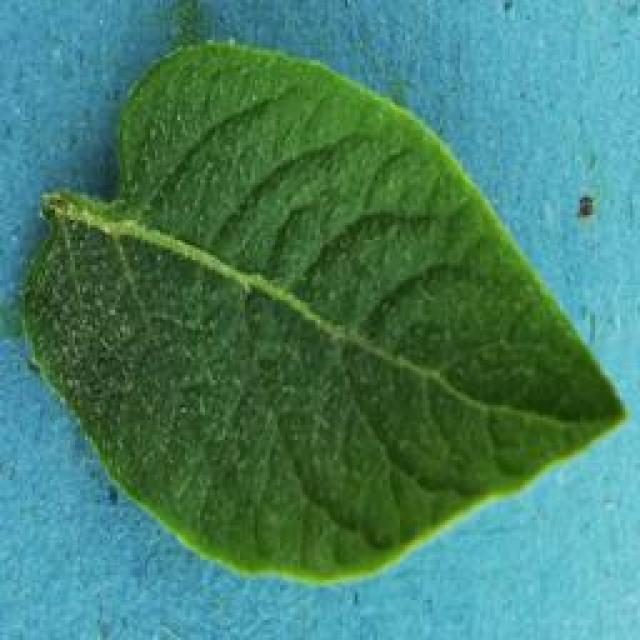Potato_Healthy: (23, 39, 621, 581)
